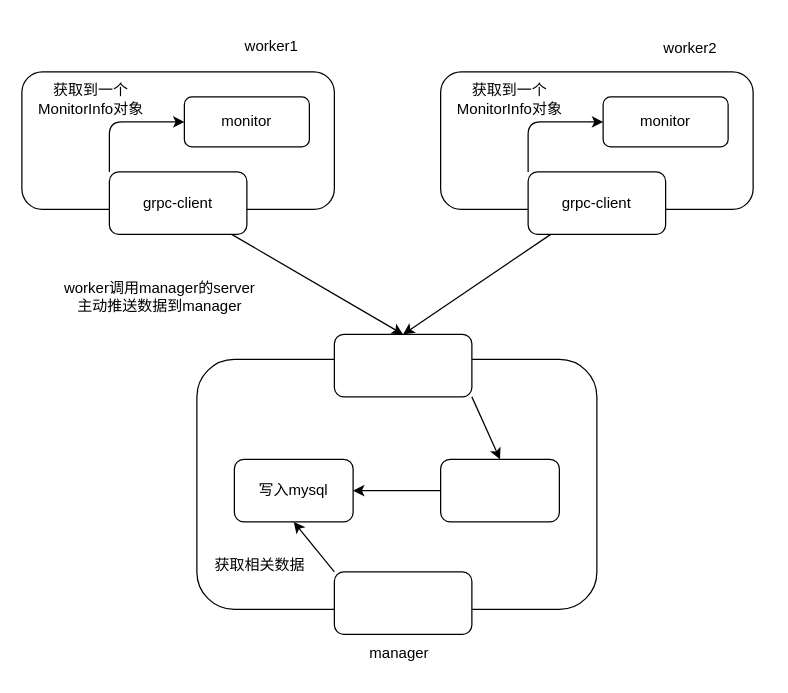
The diagram is 788 pixels wide and 693 high, and some of its shapes have lost their labels. Each missing label, with the centre of its shape:
数据处理: the point at 499,490
数据获取 grpc-server: the point at 402,365
查询接口 grpc-server: the point at 402,602
